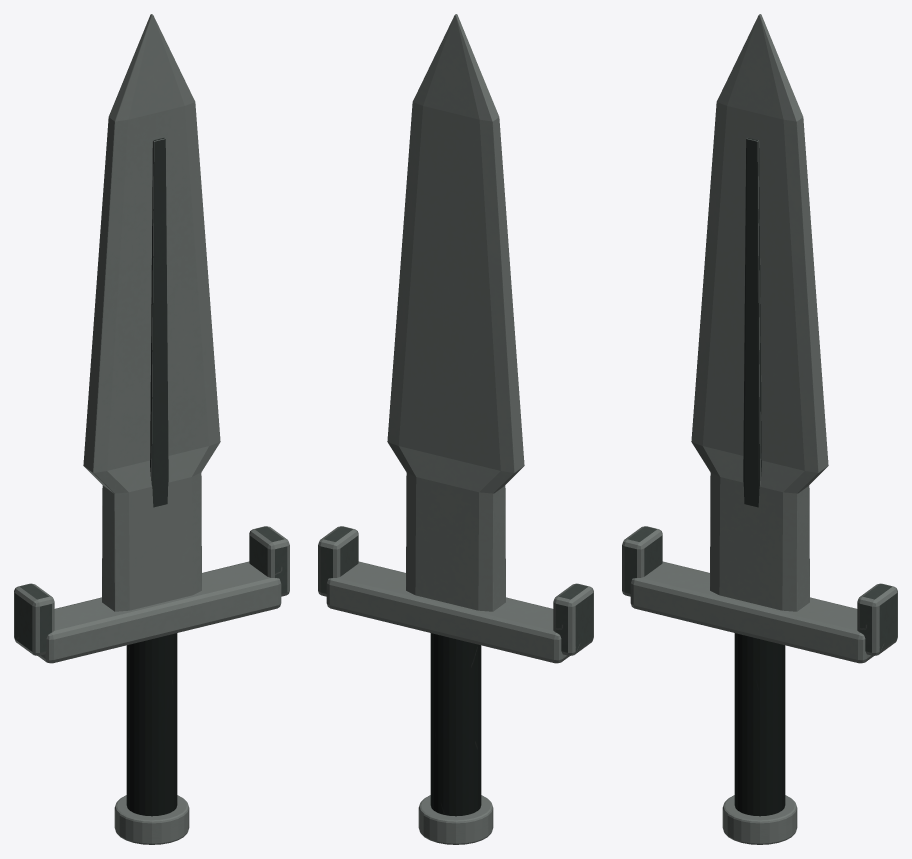
File: greatsword-t3.glb
3 renders of one model, left to right at view 1: azimuth 30°, elevation 25°; view 2: azimuth 150°, elevation 25°; view 3: azimuth 330°, elevation 25°, orthographic.
Parts seen in each view (by area): view 1: Forged blade, Crossguard, Wrapped handle, Central blade fuller, Weighted pommel, Guard return, Guard return.001; view 2: Forged blade, Crossguard, Wrapped handle, Weighted pommel, Guard return, Guard return.001; view 3: Forged blade, Crossguard, Wrapped handle, Central blade fuller, Weighted pommel, Guard return.001, Guard return.
Part boxes in pixels (x1,y1,x2,y2): Forged blade: (83, 14, 220, 611); Crossguard: (38, 561, 281, 663); Wrapped handle: (126, 633, 177, 816); Central blade fuller: (150, 137, 168, 507); Weighted pommel: (114, 795, 189, 844); Guard return: (14, 583, 54, 655); Guard return.001: (249, 526, 289, 596); Forged blade: (387, 14, 524, 611); Crossguard: (326, 561, 569, 663); Wrapped handle: (430, 633, 481, 816); Weighted pommel: (418, 795, 493, 844); Guard return: (553, 583, 593, 655); Guard return.001: (318, 526, 358, 596); Forged blade: (691, 14, 828, 611); Crossguard: (630, 561, 873, 663); Wrapped handle: (734, 633, 785, 816); Central blade fuller: (743, 137, 761, 507); Weighted pommel: (722, 795, 797, 844); Guard return.001: (857, 583, 897, 655); Guard return: (622, 526, 662, 596).
Bounding box in the file's own units: 0.765 × 2.32 × 0.192.
Materials: 4 (4 with a texture image).
